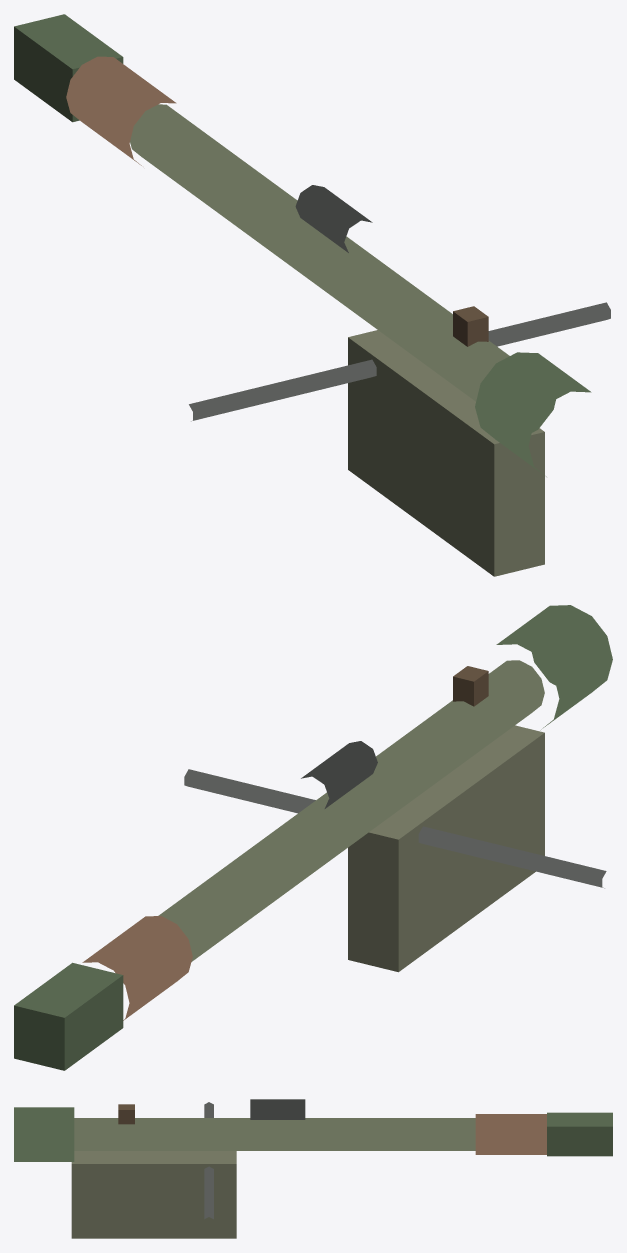
The model's file is w_spg9.glb.
3 views of the same model, one above another, from view 1: azimuth 30°, elevation 25°; view 2: azimuth 150°, elevation 25°; view 3: azimuth 270°, elevation 25° (orthographic). The views are drawn at different scales.
Visible parts, largest first — view 1: body; view 2: body; view 3: body.
Boxes of the visible parts, x1=… form: body: x1=14, y1=14, x2=610, y2=576; body: x1=14, y1=605, x2=612, y2=1070; body: x1=14, y1=1099, x2=612, y2=1238.
Bounding box in the file's own units: 0.99 × 0.53 × 2.18.
